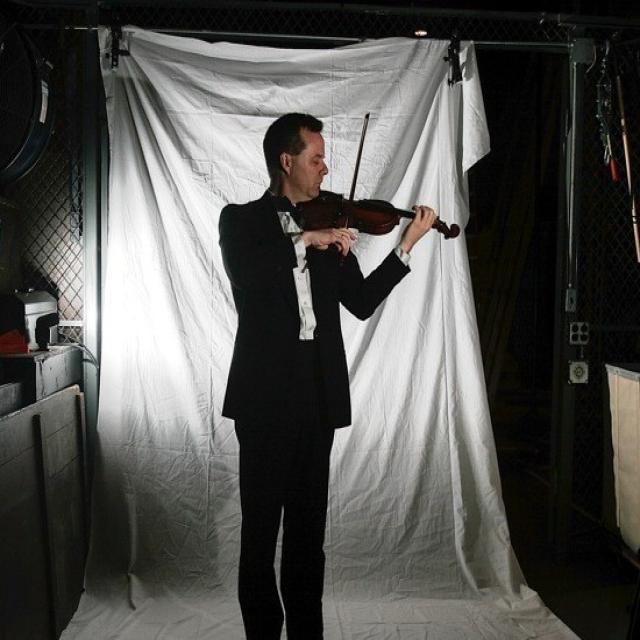violin: (295, 185, 464, 243)
